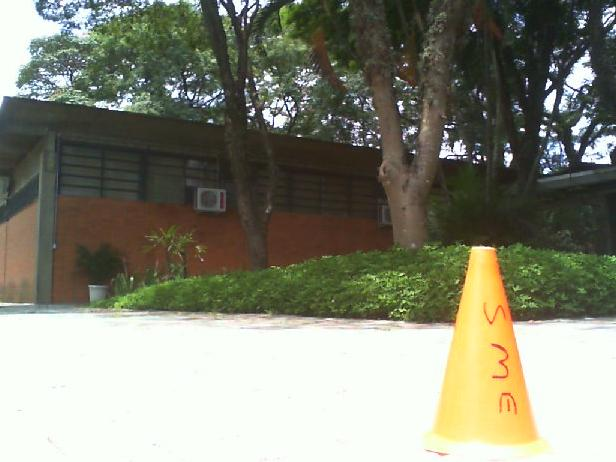0 cone: (427, 248, 553, 453)
